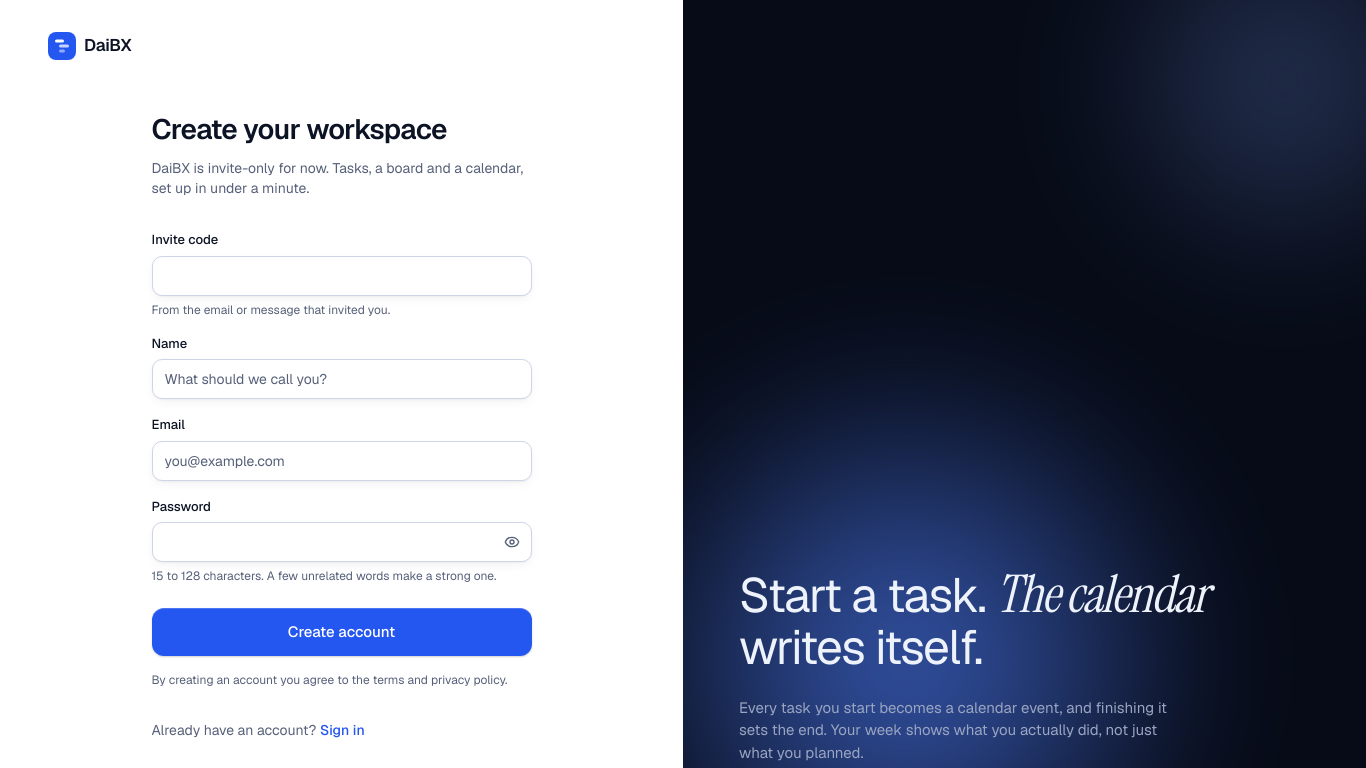
Test: too many attempts shows how long to wait
The width and height of the screenshot is (1366, 768).
In the field labelled "Invite code": (342, 276) x1=152 y1=256 x2=532 y2=296, type "K7QM-2XRD-9FTB-0011"
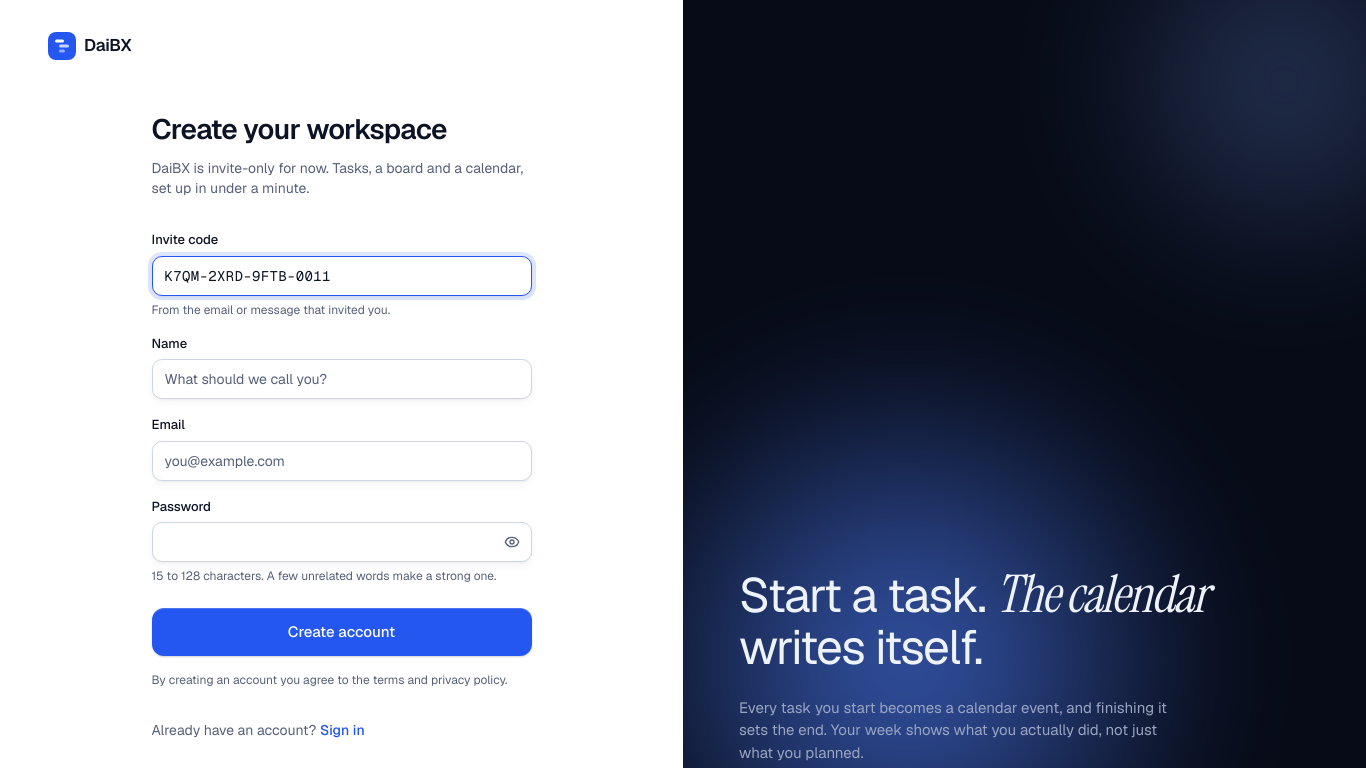
In the field labelled "Name": (342, 379) x1=152 y1=359 x2=532 y2=399, type "Shan Padayhag"
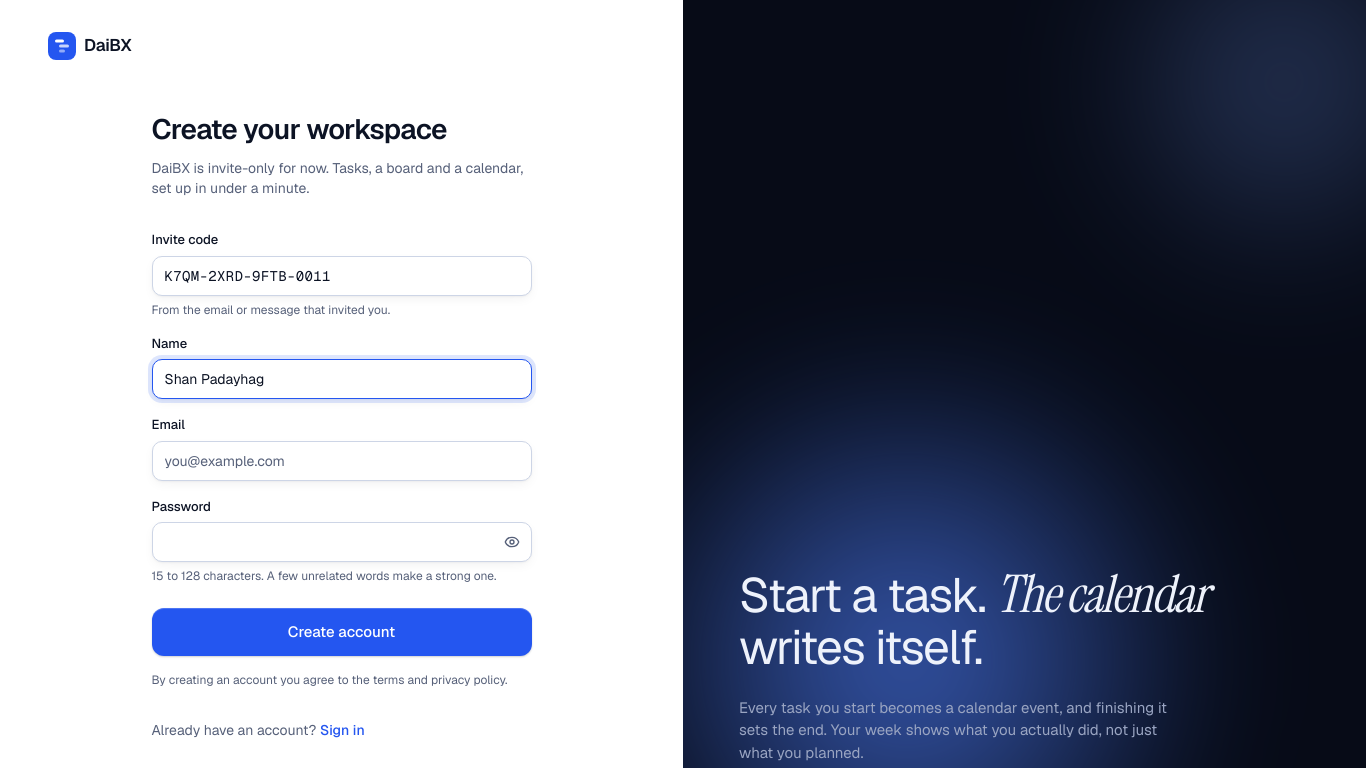
In the field labelled "Email": (342, 460) x1=152 y1=440 x2=532 y2=480, type "shan@daibx.test"
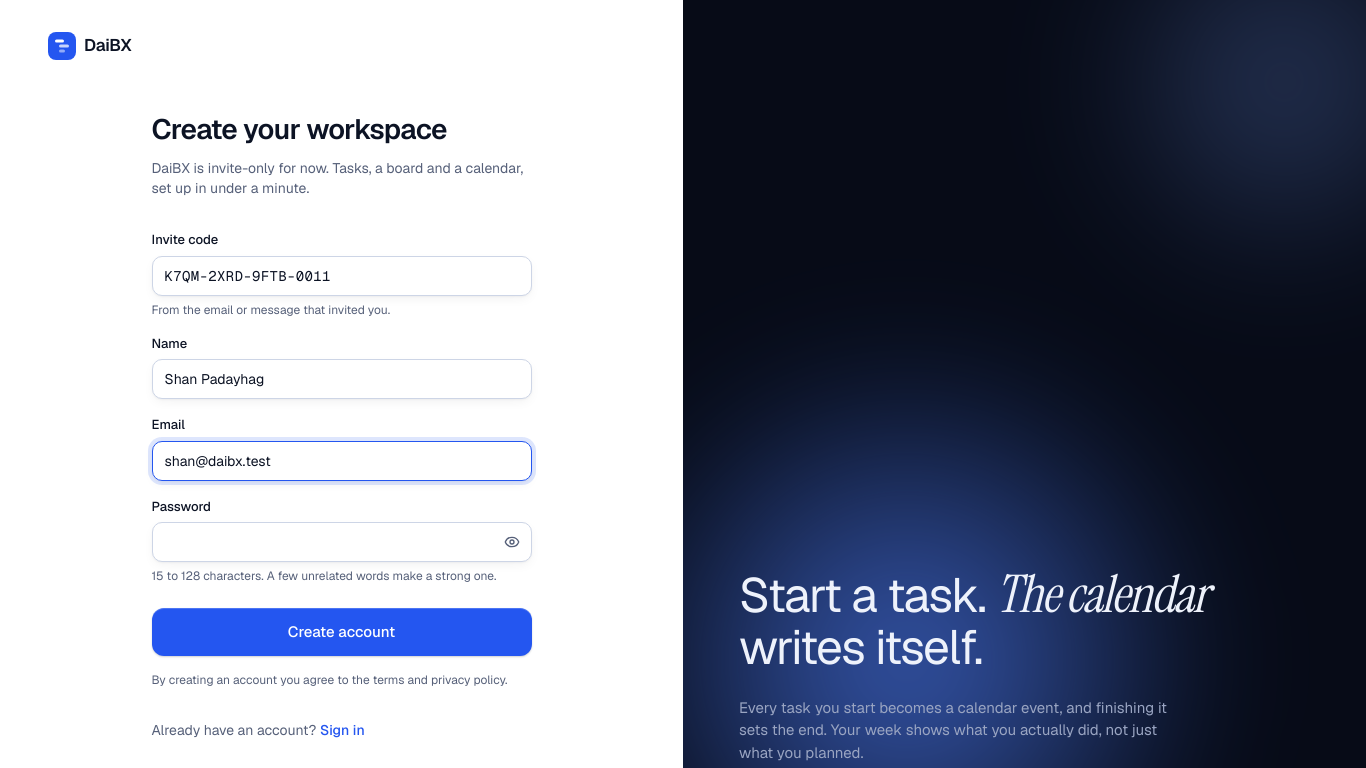
In the password field labelled "Password": (342, 542) x1=152 y1=522 x2=532 y2=562, type "violet lantern drifts past seven quiet docks"
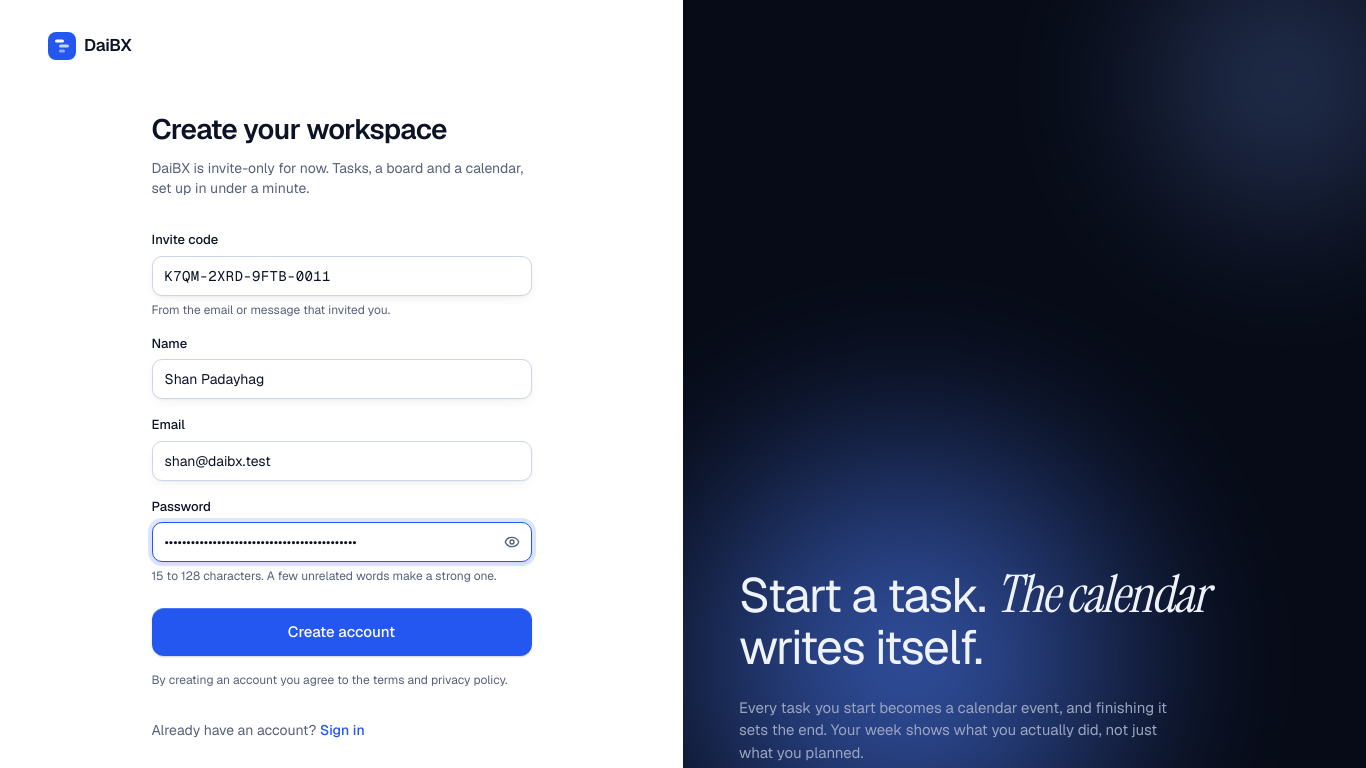
Click the button "Create account": (342, 632) x1=152 y1=608 x2=532 y2=656
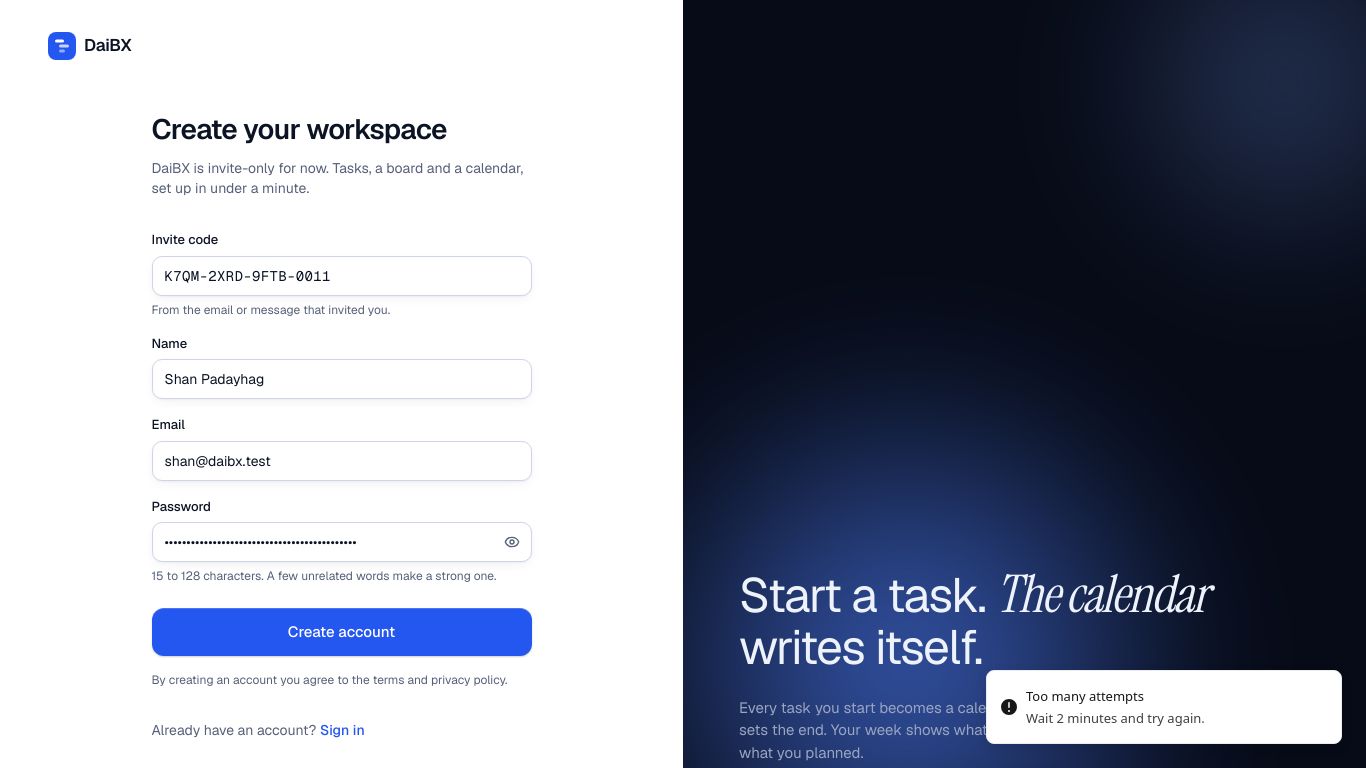
Expected: the text "Wait 2 minutes and try again." is shown, x1=1026 y1=709 x2=1205 y2=727
